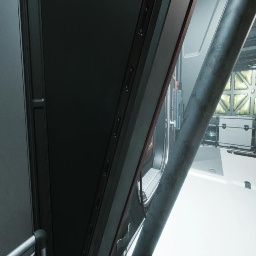EmergencyPhone ,: (172, 68, 175, 80)
FireAlarm ,: (176, 81, 178, 90)
